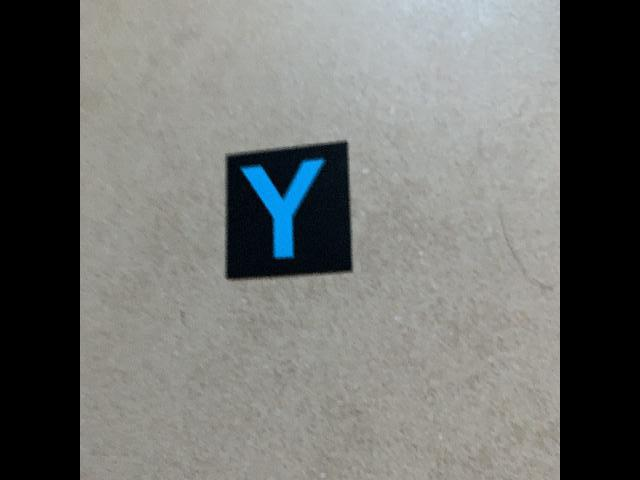alphabet_y: (221, 140, 355, 281)
